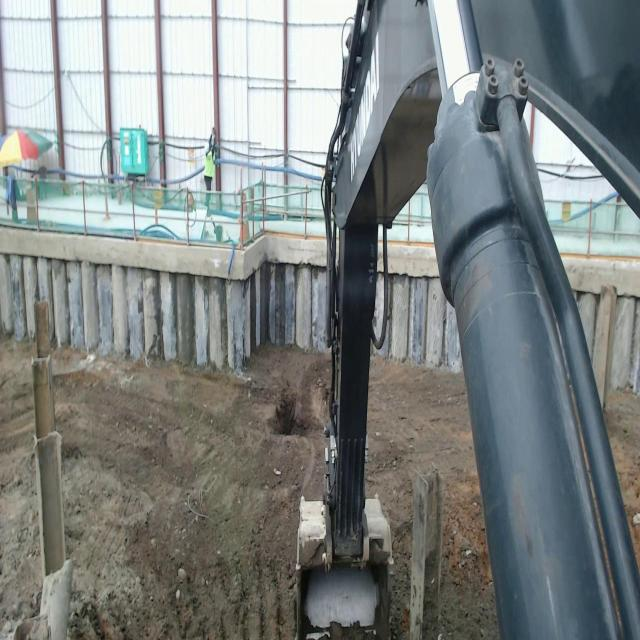cement: (0, 226, 231, 279), (230, 233, 326, 280), (562, 255, 640, 297), (388, 239, 439, 277)
red-sand: (53, 346, 329, 639), (366, 358, 498, 639), (0, 339, 41, 630), (606, 393, 640, 567)
